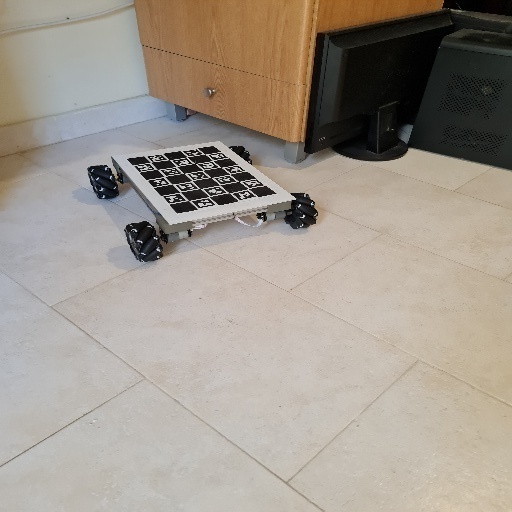Omniwheel: (88, 141, 319, 264)
